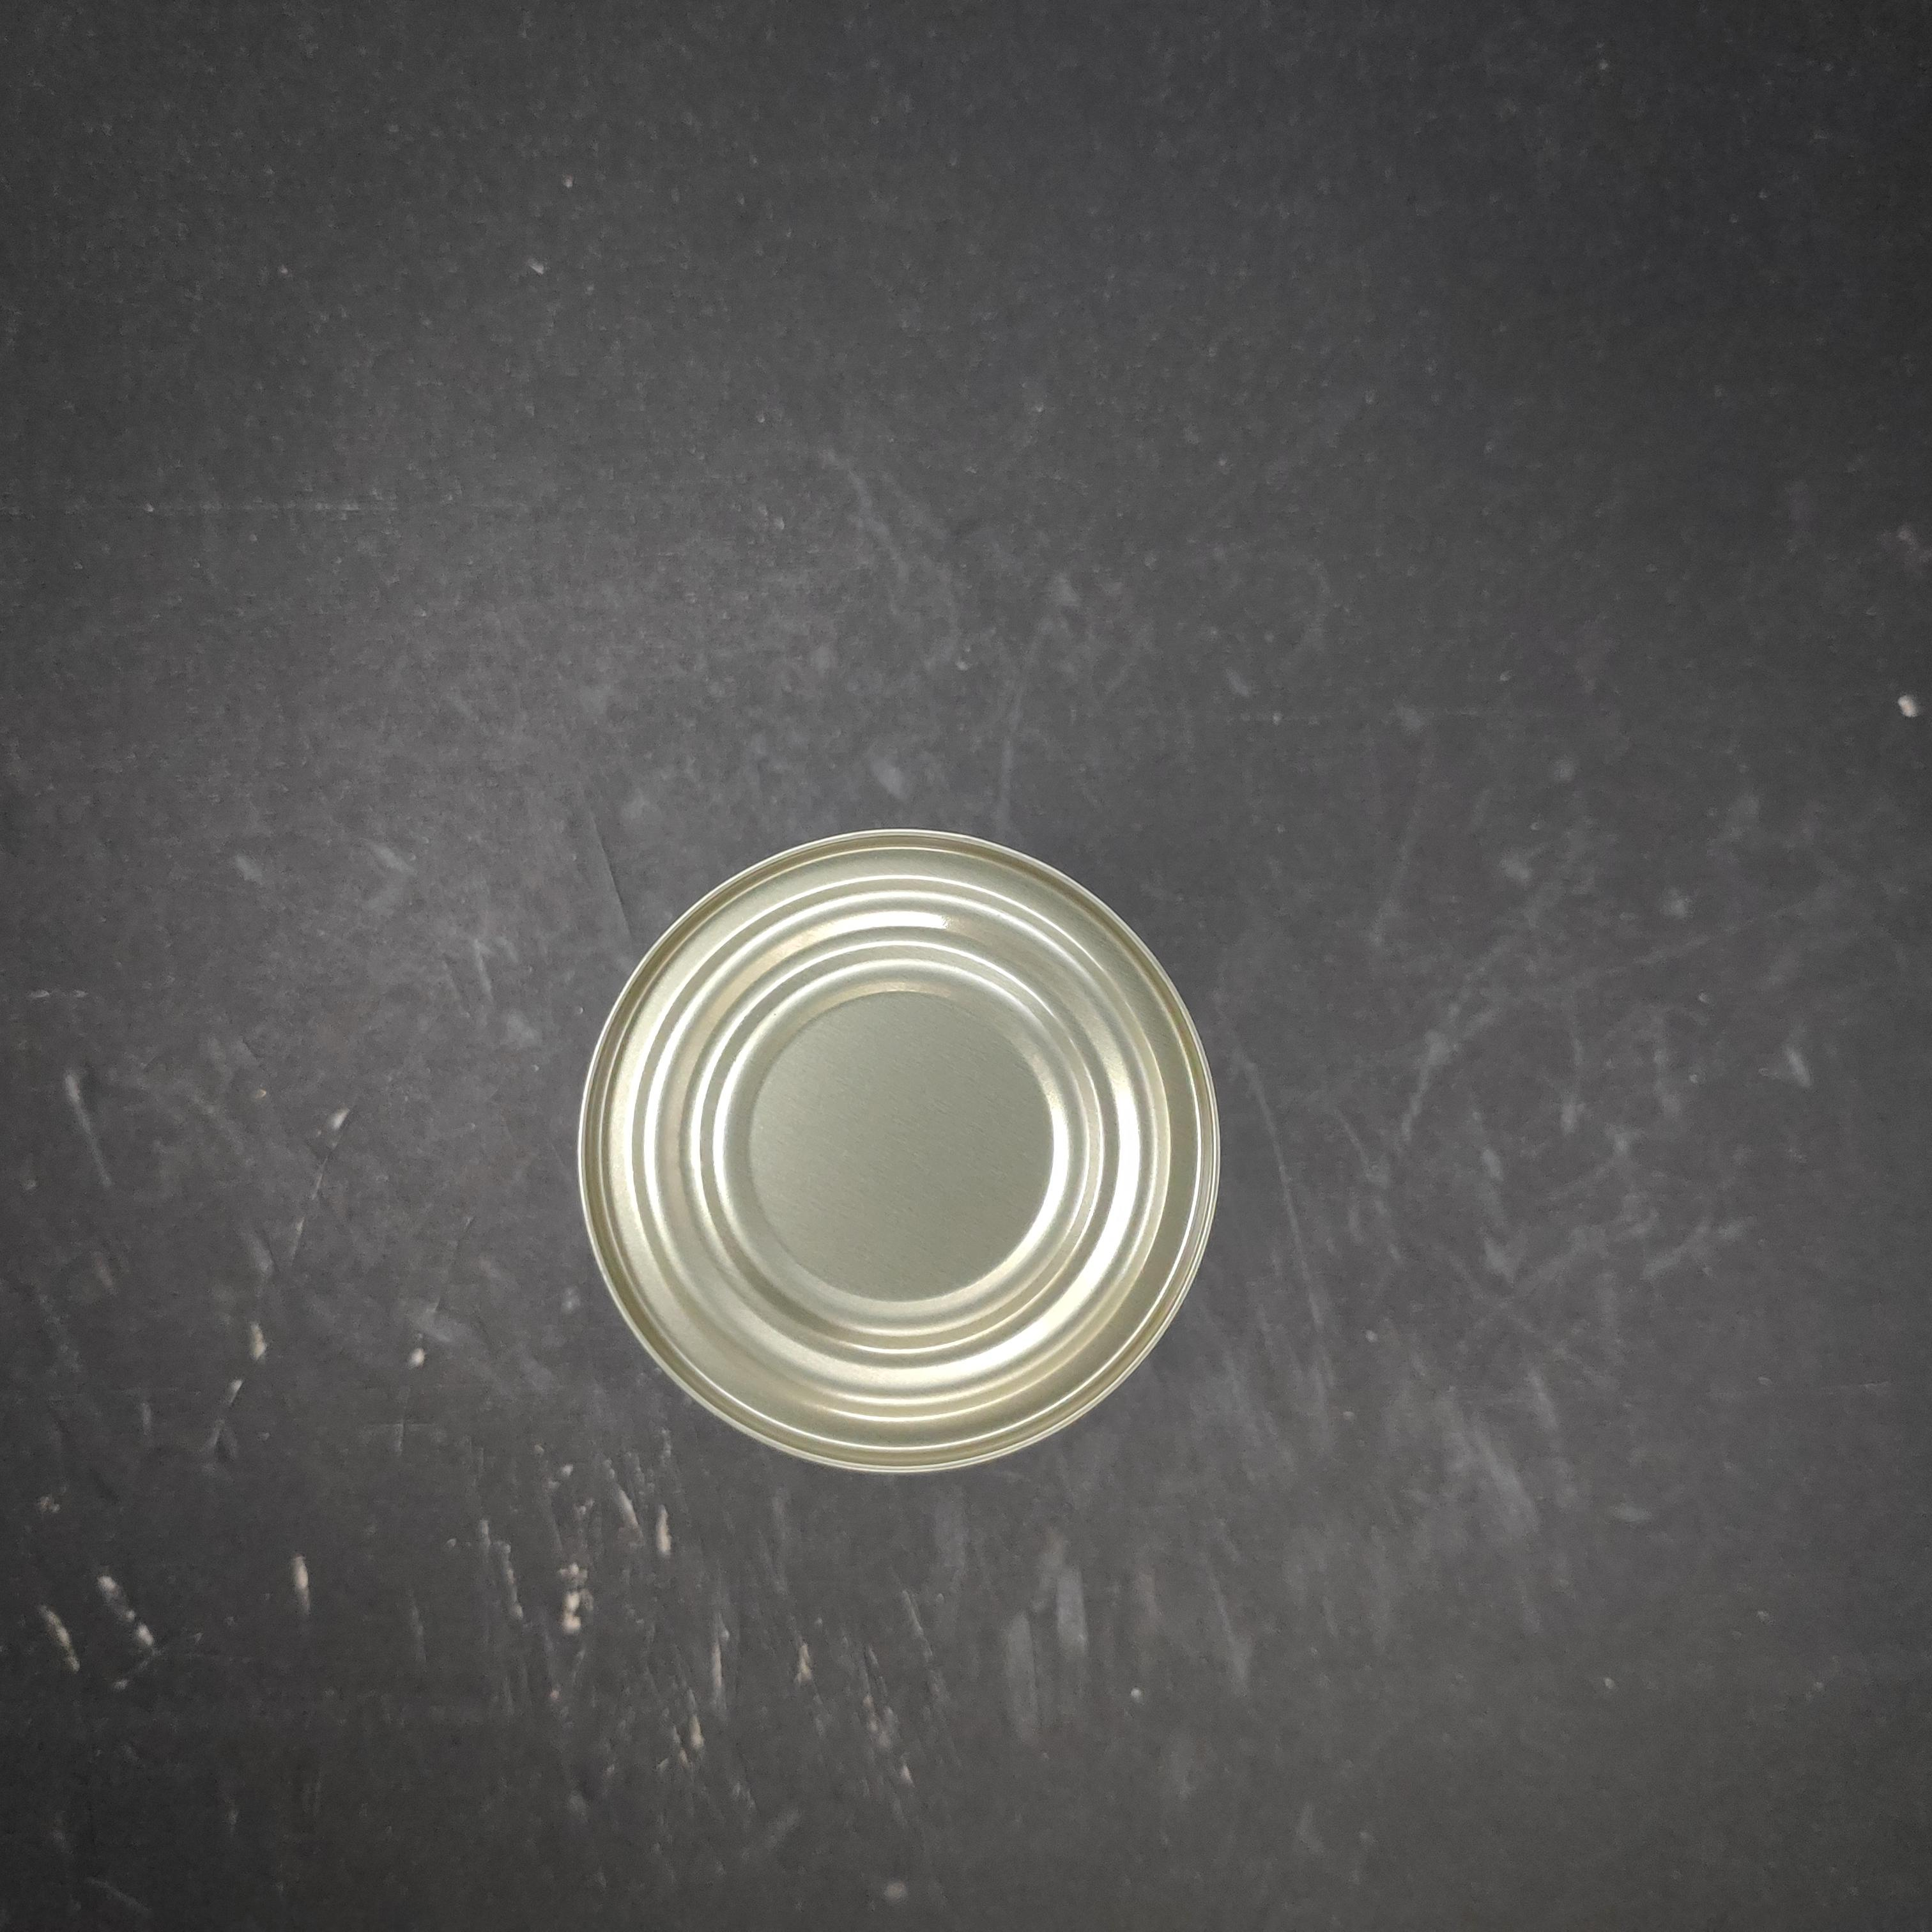No defect: (826, 709, 1477, 1357)
